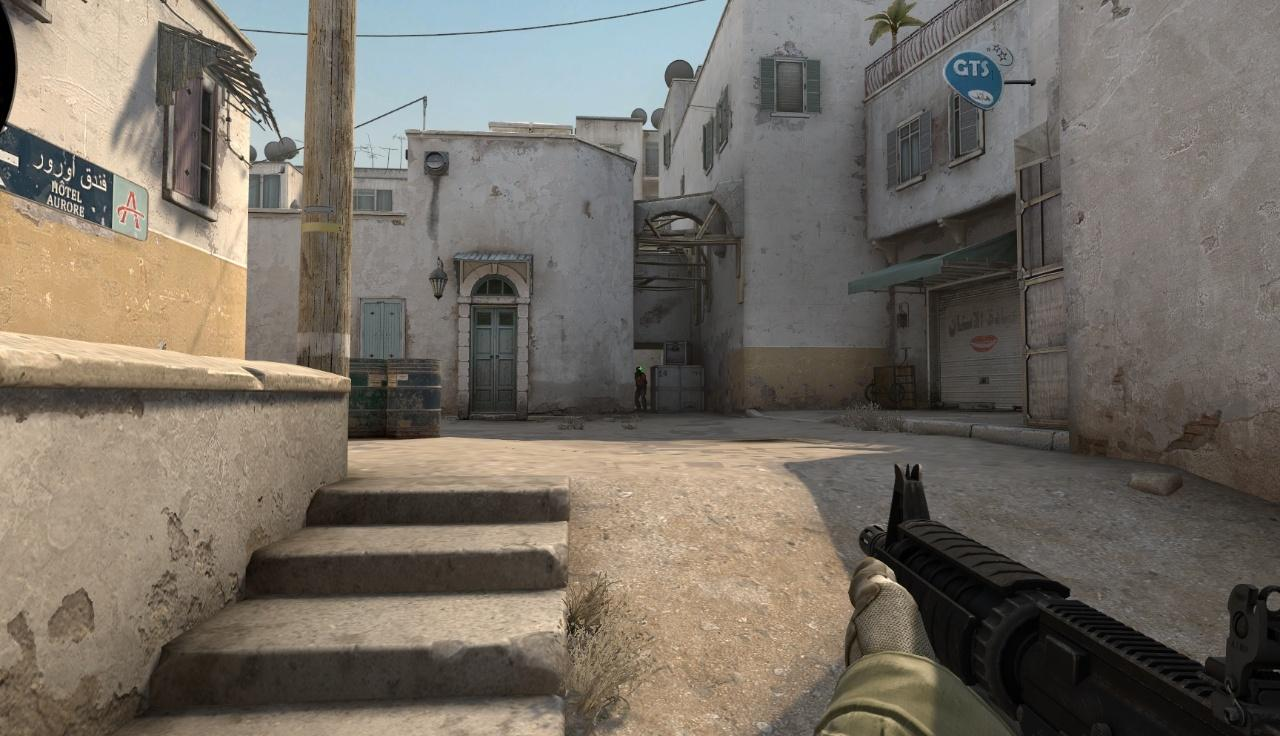rifle: (814, 462, 1280, 736)
tt: (634, 366, 647, 412)
tthead: (636, 366, 641, 373)
